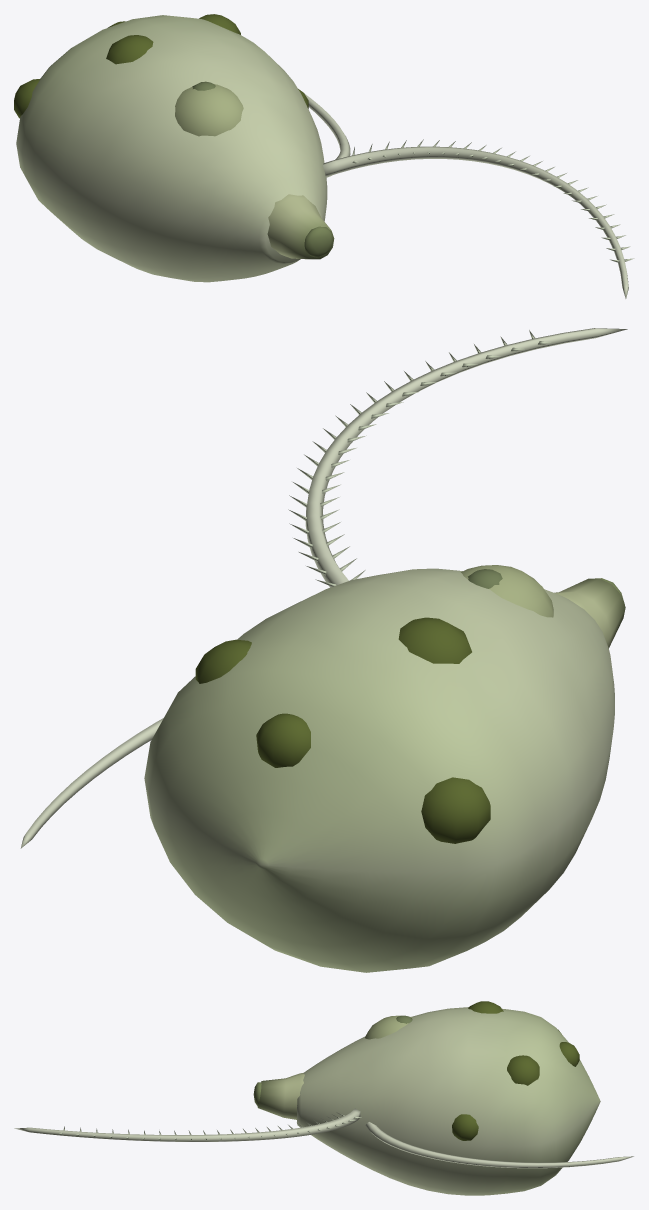
Rendered from Telonema.fbx.
The picture shows the model from 3 angles, top to bottom: view 1: azimuth 30°, elevation 25°; view 2: azimuth 150°, elevation 25°; view 3: azimuth 270°, elevation 25°; orthographic projection. The views are drawn at different scales.
Visible parts, largest first — view 1: Telonema; view 2: Telonema; view 3: Telonema.
Part boxes in pixels (<box>): Telonema: <box>14,14,634,298</box>; Telonema: <box>20,328,627,972</box>; Telonema: <box>14,1001,633,1195</box>.
Bounding box in the file's own units: 0.77 × 0.4888 × 1.63.
